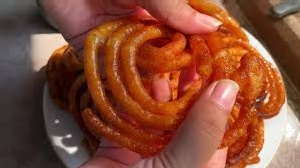pani_walalu: (82, 12, 286, 165)
